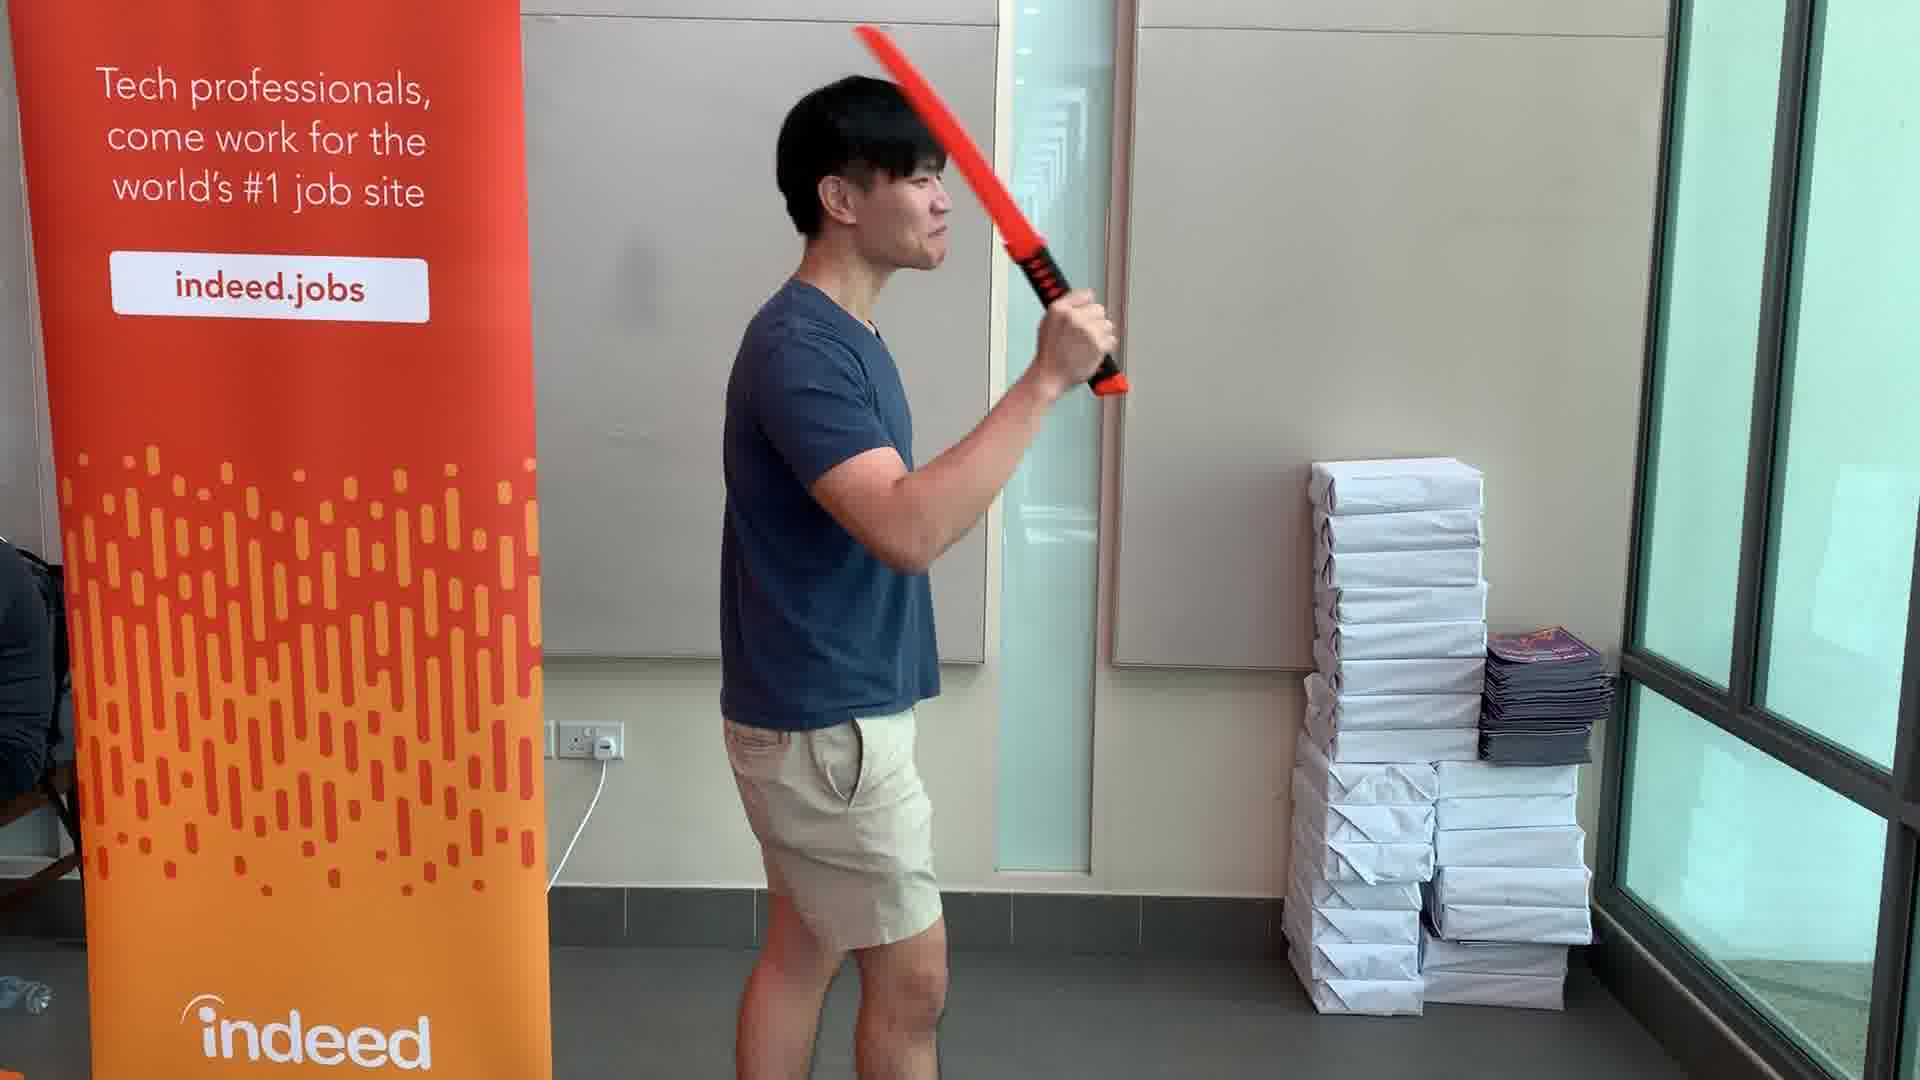knife: (847, 18, 1146, 401)
